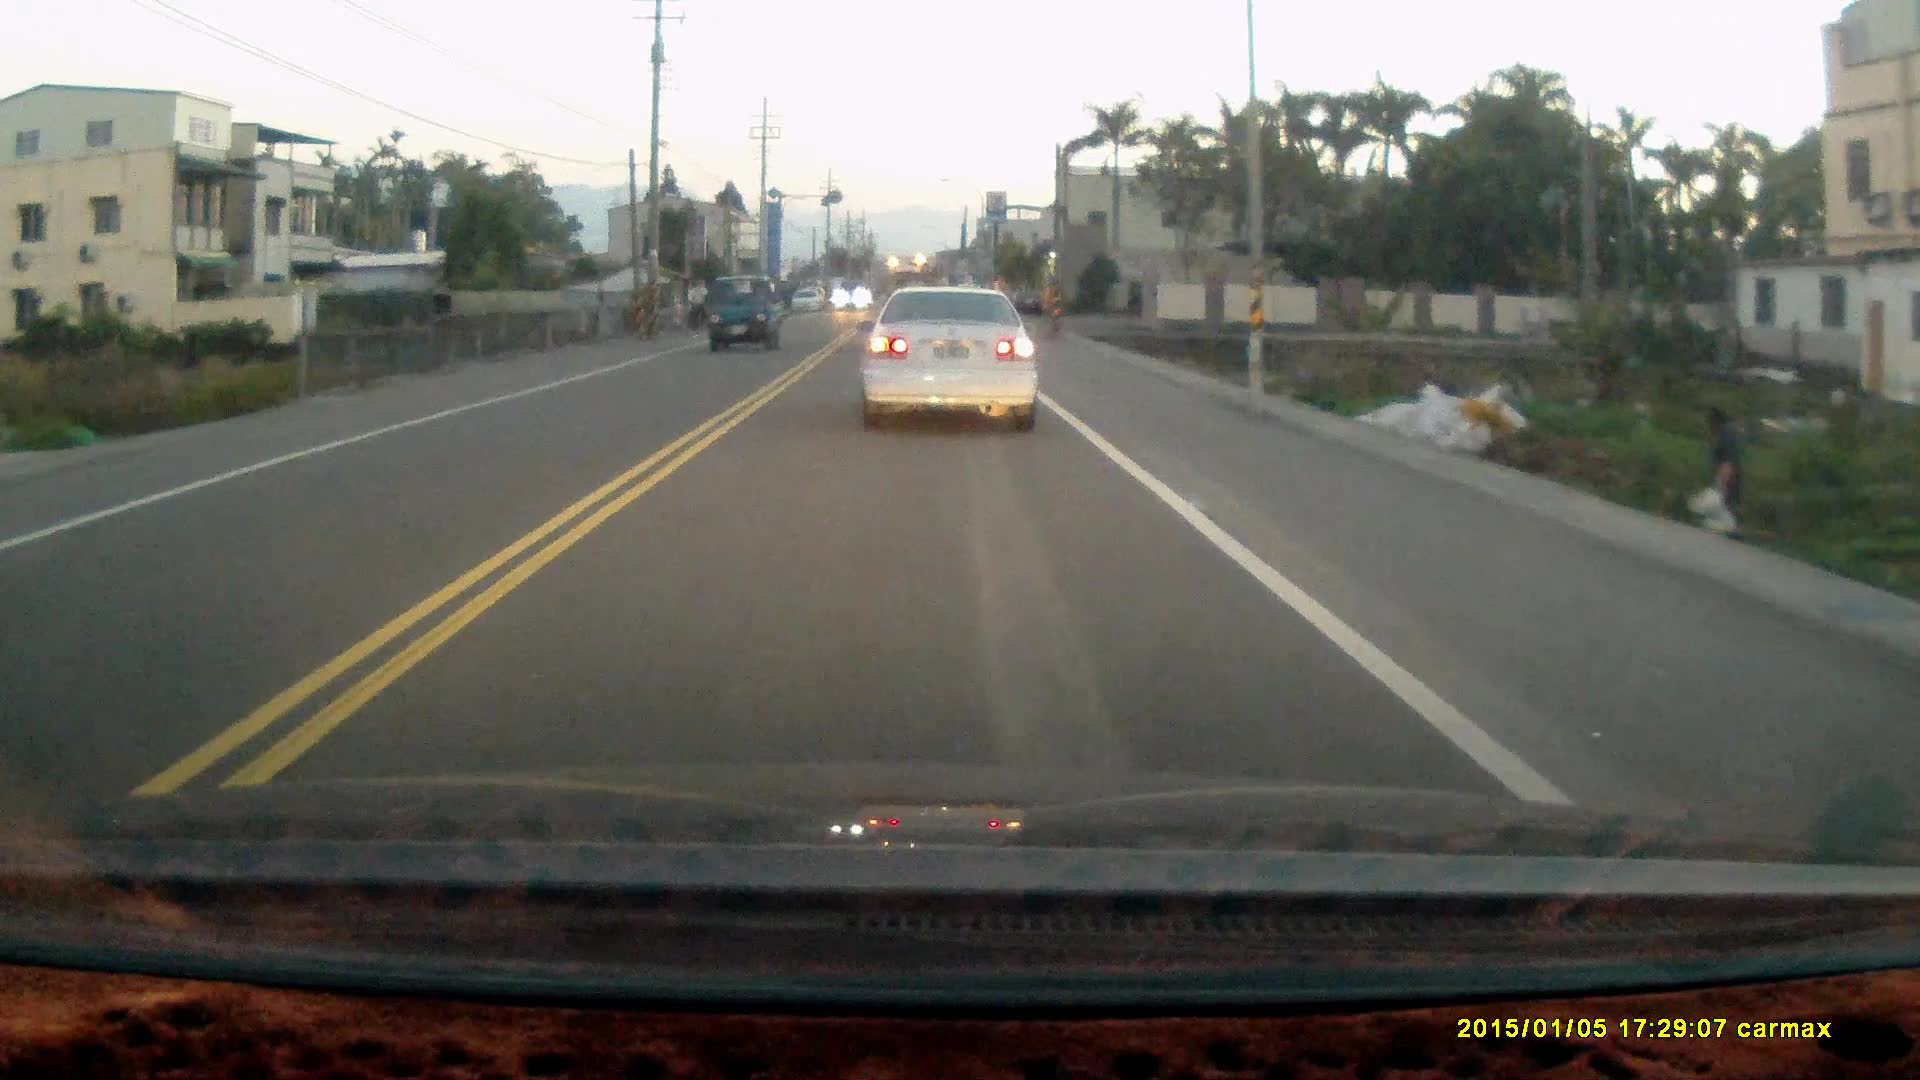pedestrian: (1694, 405, 1744, 549)
rider: (682, 273, 711, 334)
vehicle: (862, 286, 1045, 429), (706, 276, 790, 352), (838, 280, 866, 312), (793, 288, 824, 313)
